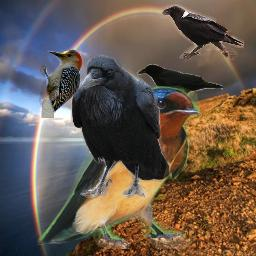Crow: (70, 54, 171, 198), (161, 4, 244, 62), (135, 62, 223, 106)
Swallow: (37, 86, 200, 249)
Woodpecker: (39, 46, 92, 118)
